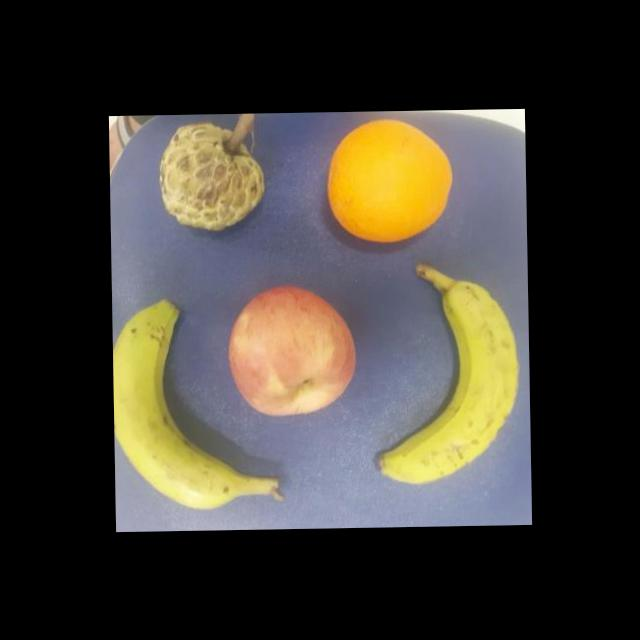Sakya fruit: (154, 113, 270, 232)
apple: (224, 288, 358, 419)
banana: (347, 274, 520, 491), (112, 293, 234, 520)
orange: (322, 116, 456, 248)
